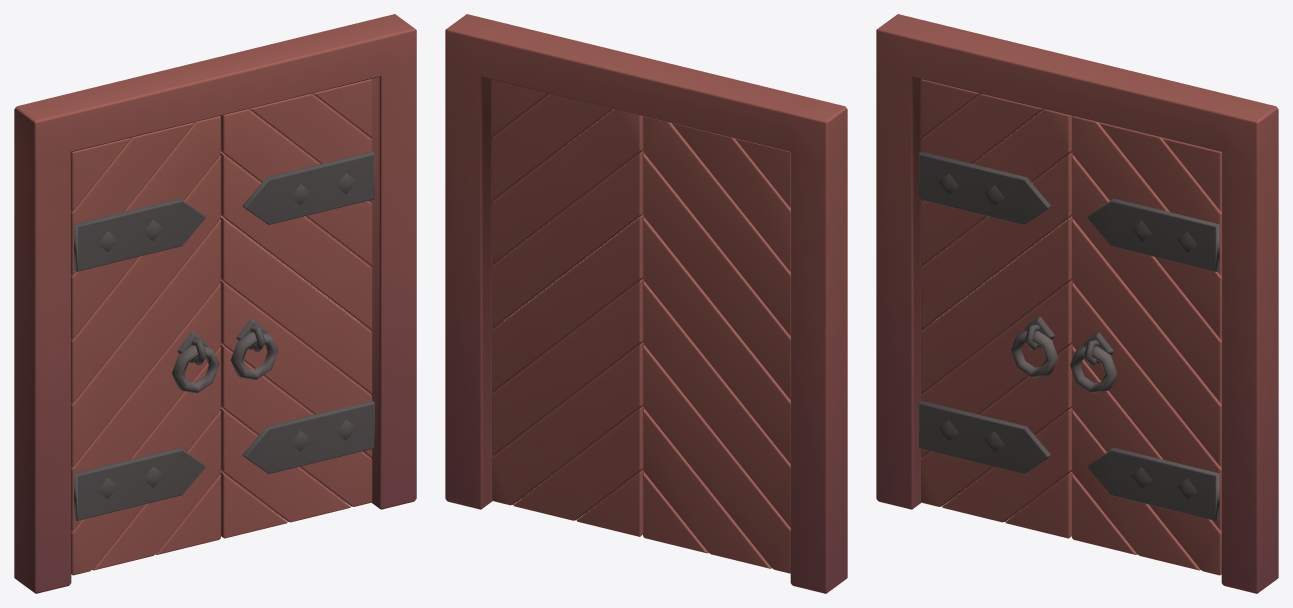
Rendered from door6.glb.
3 renders of one model, left to right at view 1: azimuth 30°, elevation 25°; view 2: azimuth 150°, elevation 25°; view 3: azimuth 330°, elevation 25°, orthographic.
Parts seen in each view (by area): view 1: Wood.arch.016, Door.08.R.001, Door.08.L.001; view 2: Wood.arch.016, Door.08.R.001, Door.08.L.001; view 3: Wood.arch.016, Door.08.L.001, Door.08.R.001.
Part boxes in pixels (x1=…): Wood.arch.016: x1=14, y1=14, x2=416, y2=593; Door.08.R.001: x1=220, y1=79, x2=374, y2=538; Door.08.L.001: x1=71, y1=116, x2=220, y2=575; Wood.arch.016: x1=445, y1=14, x2=847, y2=593; Door.08.R.001: x1=491, y1=79, x2=643, y2=536; Door.08.L.001: x1=643, y1=116, x2=790, y2=573; Wood.arch.016: x1=876, y1=14, x2=1278, y2=593; Door.08.L.001: x1=919, y1=79, x2=1072, y2=538; Door.08.R.001: x1=1070, y1=116, x2=1221, y2=575.
Size of the model in its own units: 2.22 by 2.63 by 0.3115.
1 material, 1 textured.
